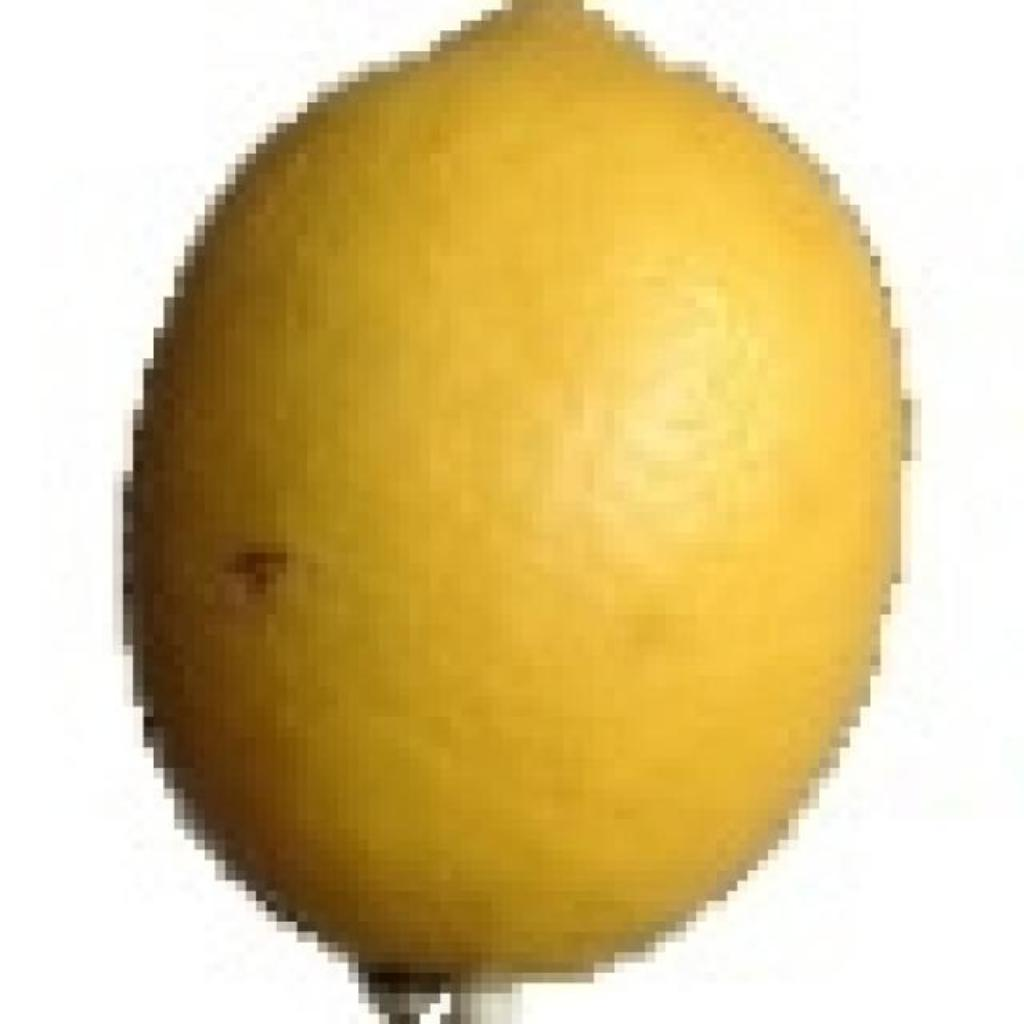lemon: (134, 0, 898, 1024)
